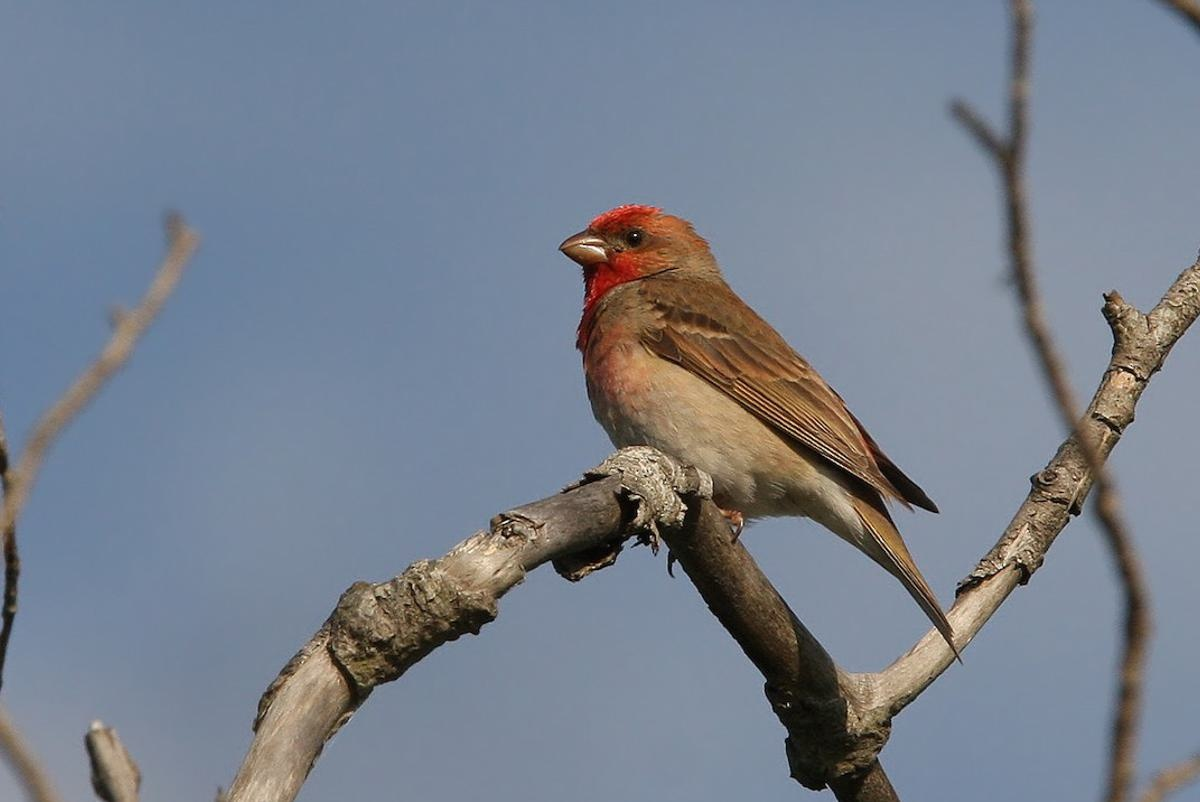rosefinch: (545, 165, 904, 577)
